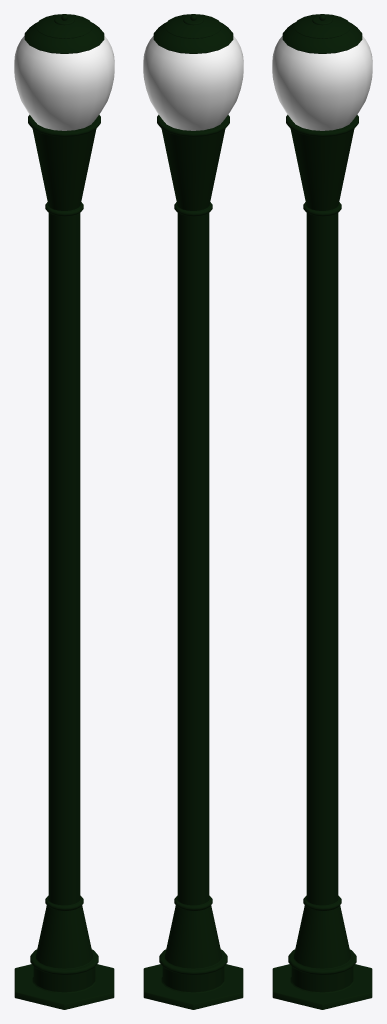
Rendered from street lamp .fbx.
The picture shows the model from 3 angles, left to right: view 1: azimuth 90°, elevation 25°; view 2: azimuth 150°, elevation 25°; view 3: azimuth 270°, elevation 25°; orthographic projection.
Visible parts, largest first — view 1: street lamp; view 2: street lamp; view 3: street lamp.
Boxes of the visible parts, box(x1,y1,x2,y2) form: street lamp: box(14, 14, 114, 1009); street lamp: box(143, 14, 243, 1009); street lamp: box(272, 14, 372, 1009).
Bounding box in the file's own units: 0.358 × 3.36 × 0.3151.
Materials: 4 (2 with a texture image).
